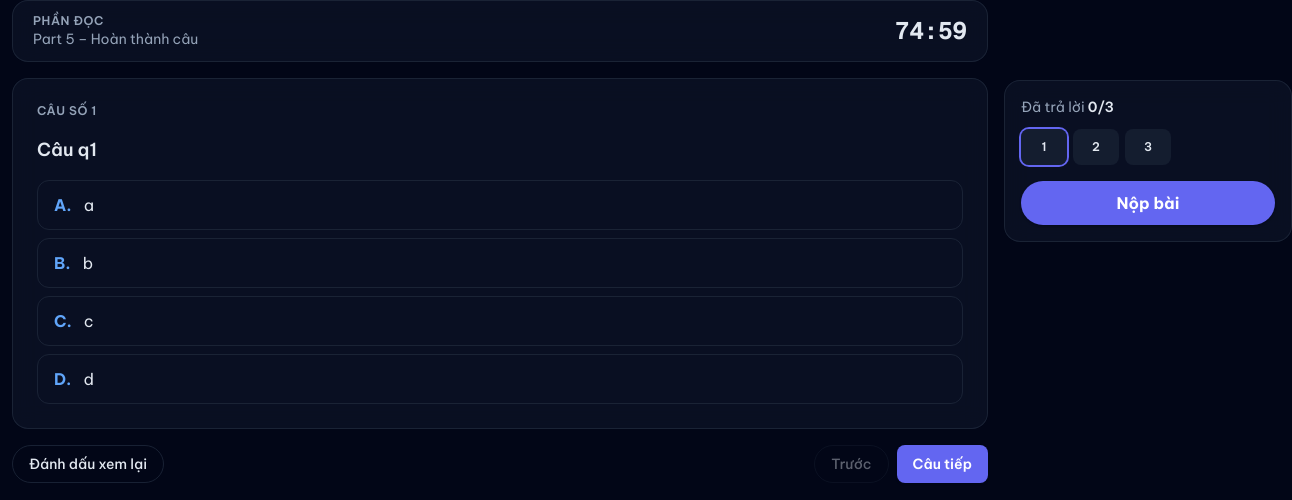
Test case: ExamRunner (đề chỉ có phần đọc) › hiện đồng hồ và câu 1; chọn đáp án lưu vào localStorage; chuyển câu bằng bảng số
Check: the text "74:59" is shown, box x1=895 y1=15 x2=967 y2=47
Check: the text "Câu q1" is shown, box x1=37 y1=138 x2=97 y2=161
Click the radio button labelled "C. c".
click(60, 321)  # box x1=37 y1=296 x2=963 y2=346
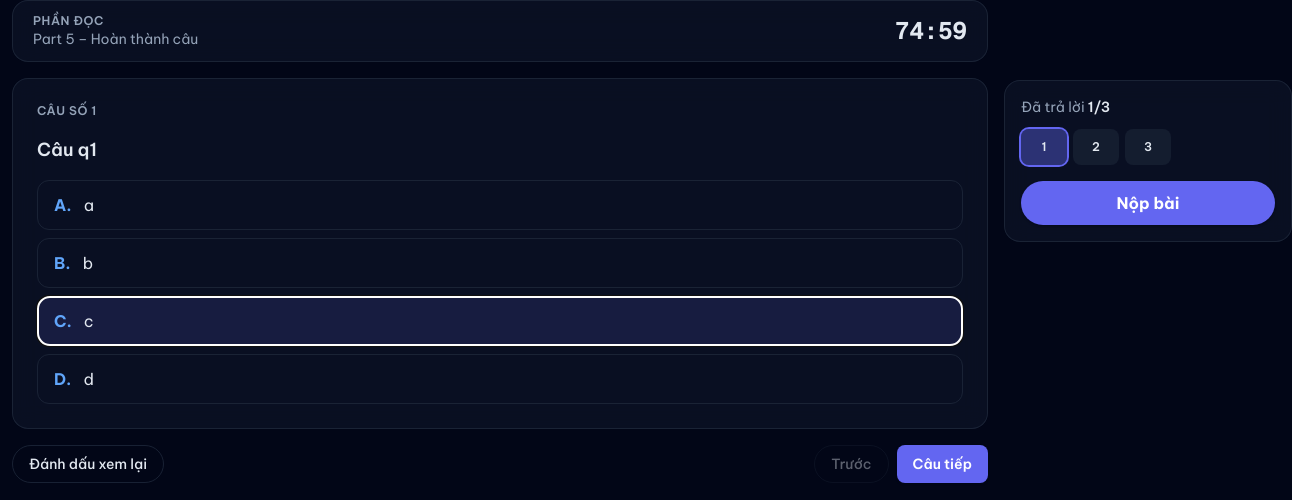
Click the button named "Tới câu 3".
click(1148, 147)  # box x1=1125 y1=129 x2=1171 y2=165
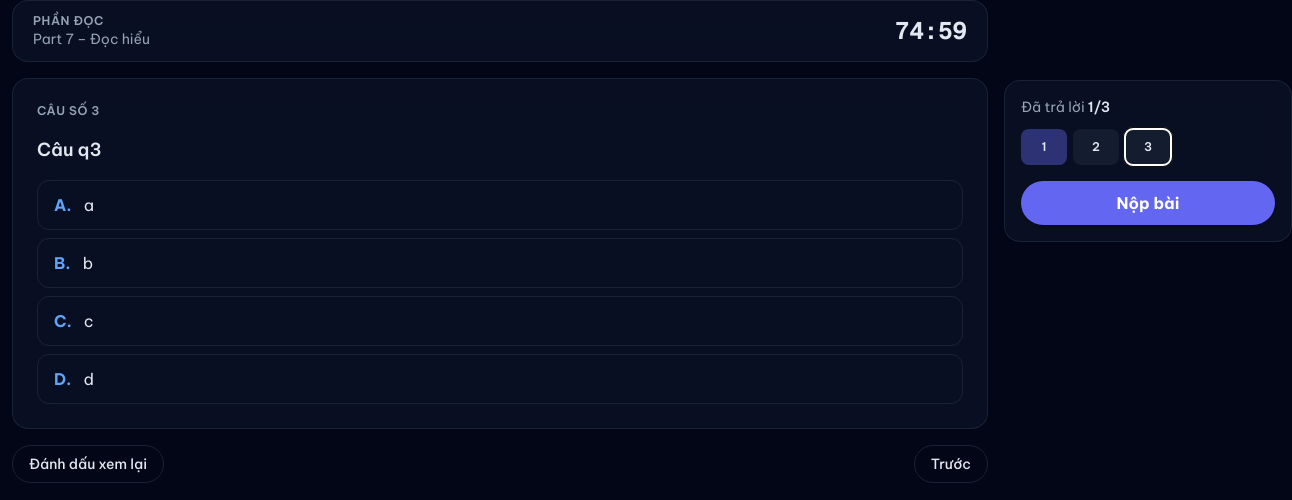
Check: the text "Câu q3" is shown, box x1=37 y1=138 x2=102 y2=161
